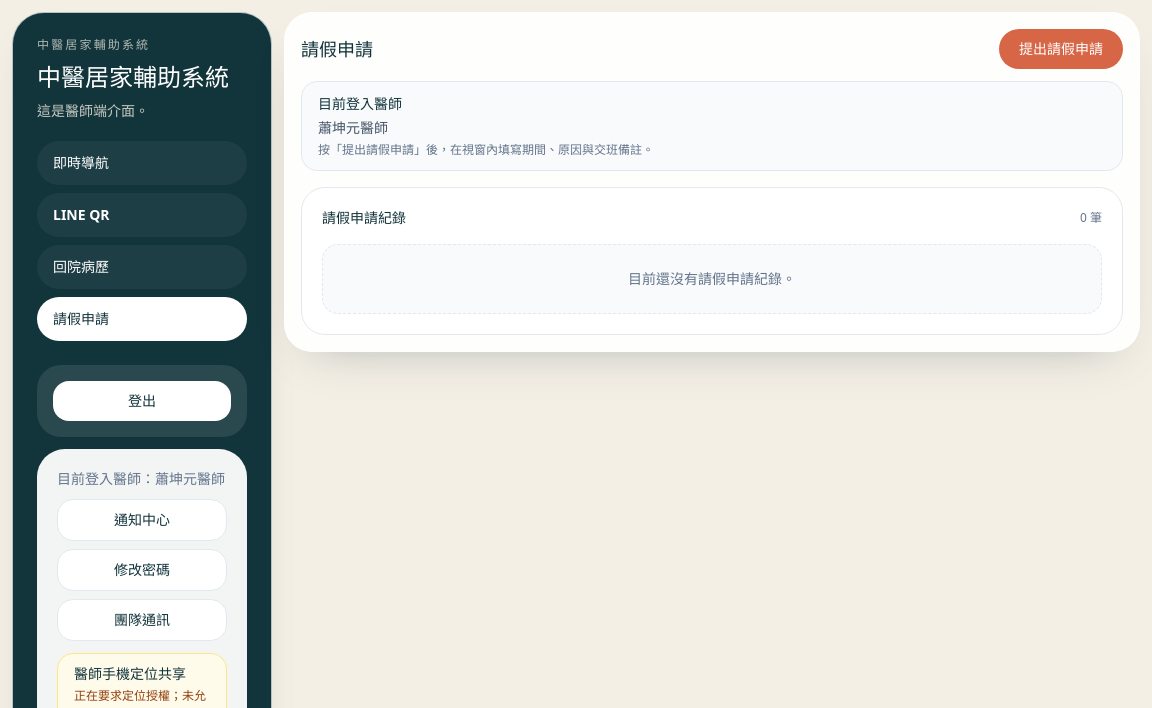
Test: AppShell › 醫師端請假申請會先開啟視窗再填寫送出
Expected: the field labelled "請假原因" is not shown
Click the button "提出請假申請": click(1061, 49) [999,29,1123,69]
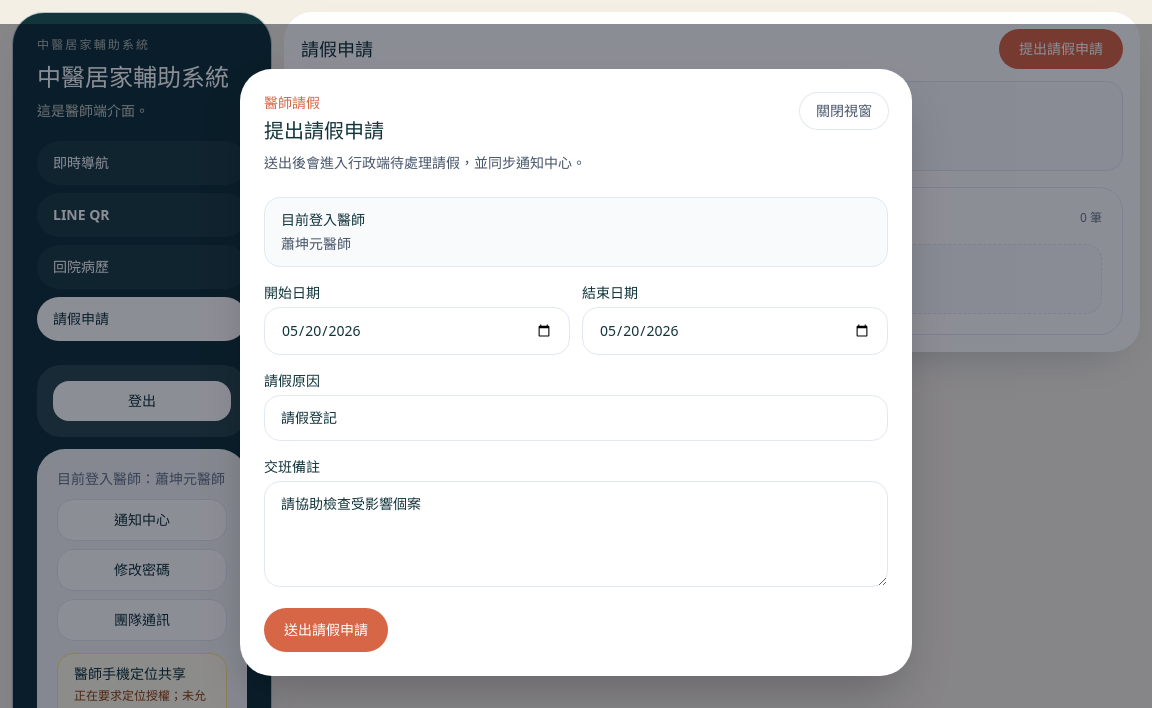
Result: the button "關閉視窗" is shown
Click the button "關閉視窗": click(844, 110) [800,92,888,128]
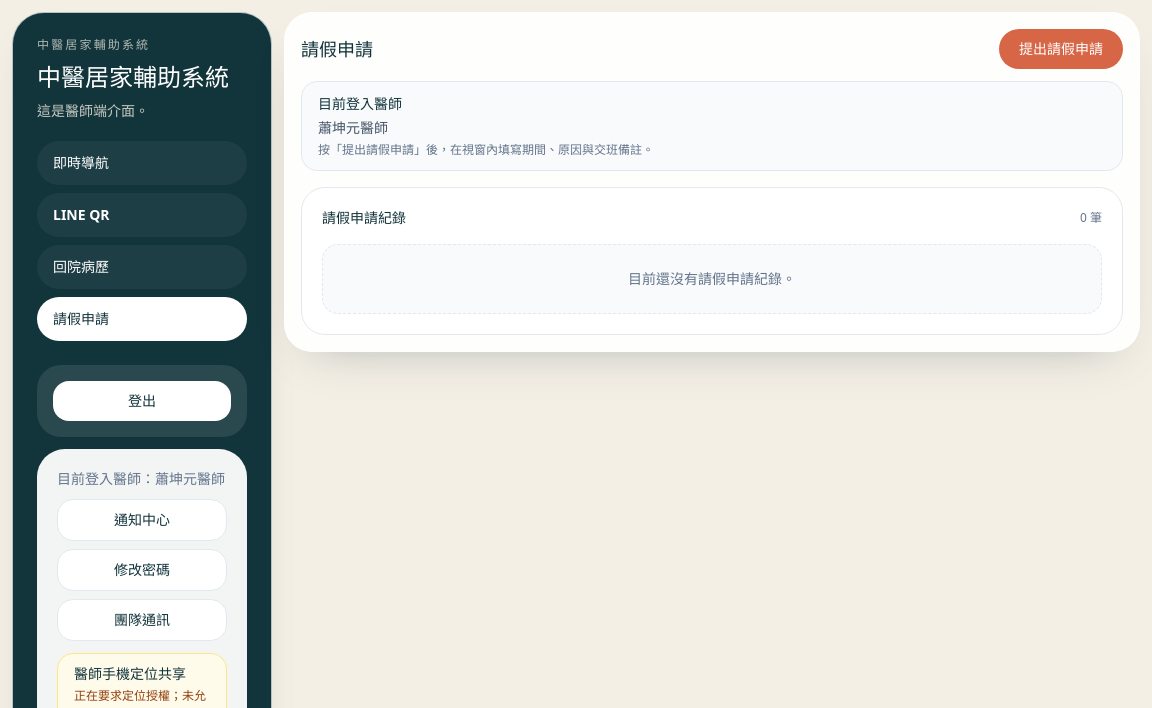
Result: the dialog "請假申請視窗" is gone
Click the button "提出請假申請": click(1061, 49) [999,29,1123,69]
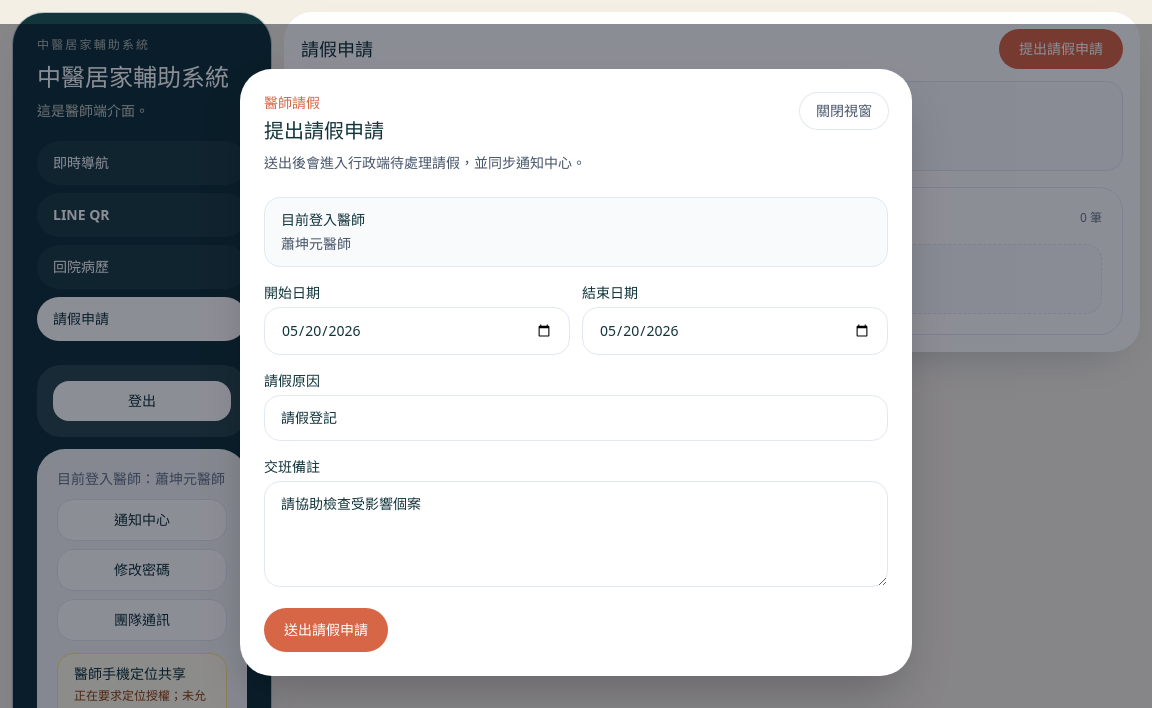
Replace the text in the field labelled "請假原因" with "上午院內會議": (576, 418) [264,394,888,440]
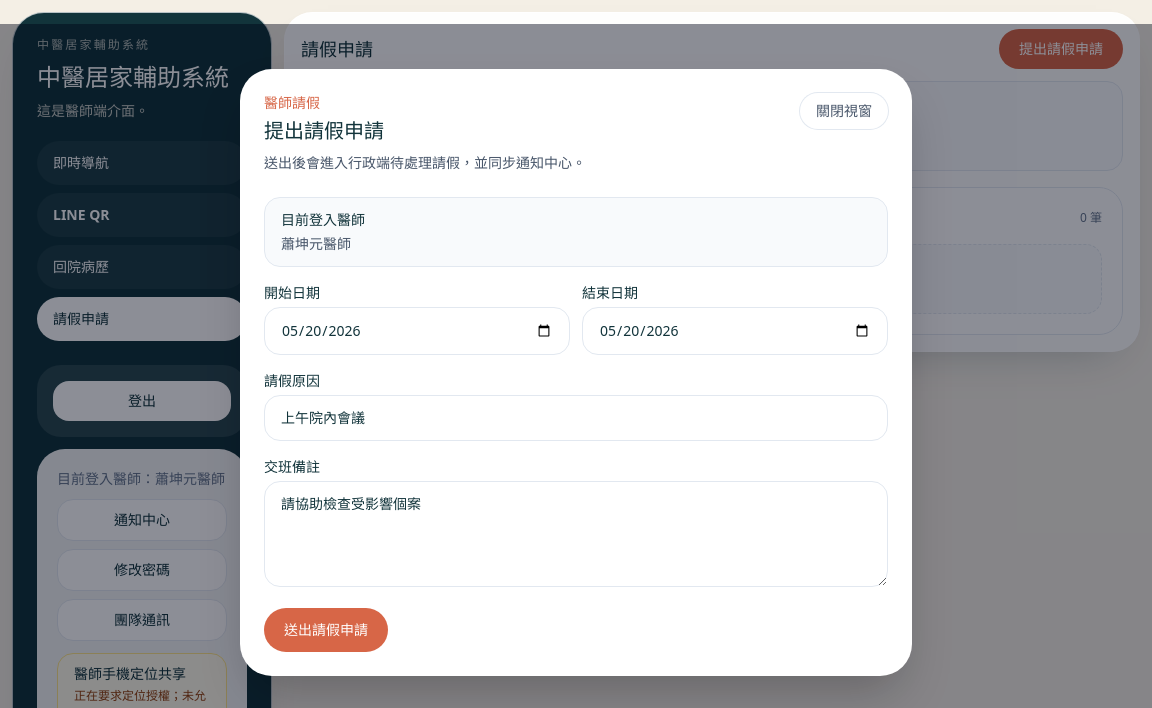
Click the button "送出請假申請": click(326, 630) [264,608,388,652]
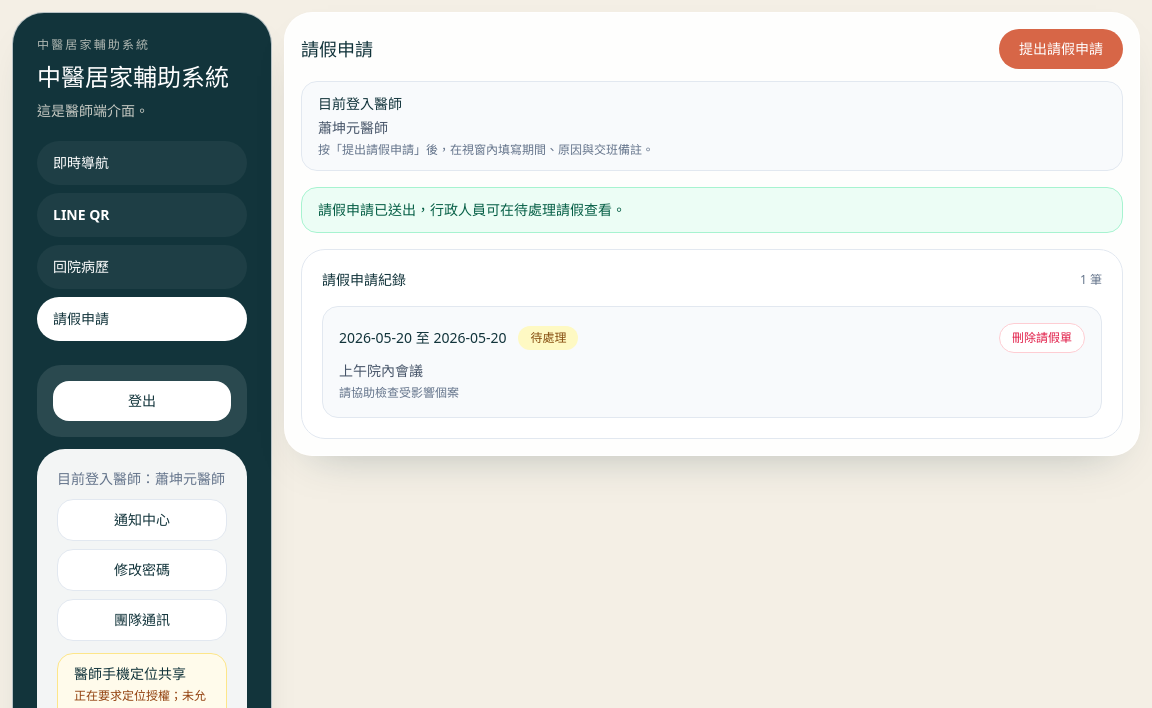
Result: the message shows "請假申請已送出" at [318,200,626,219]
Result: the dialog "請假申請視窗" is gone
